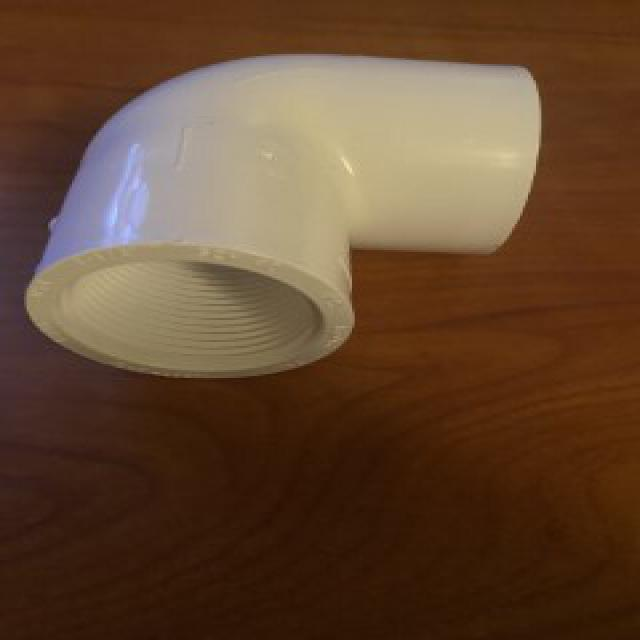L Joint: (23, 53, 543, 382)
